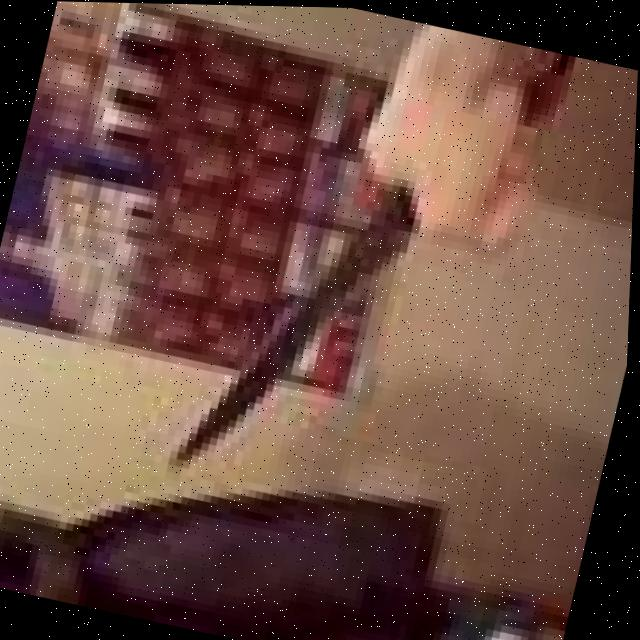knife: (162, 153, 416, 512)
